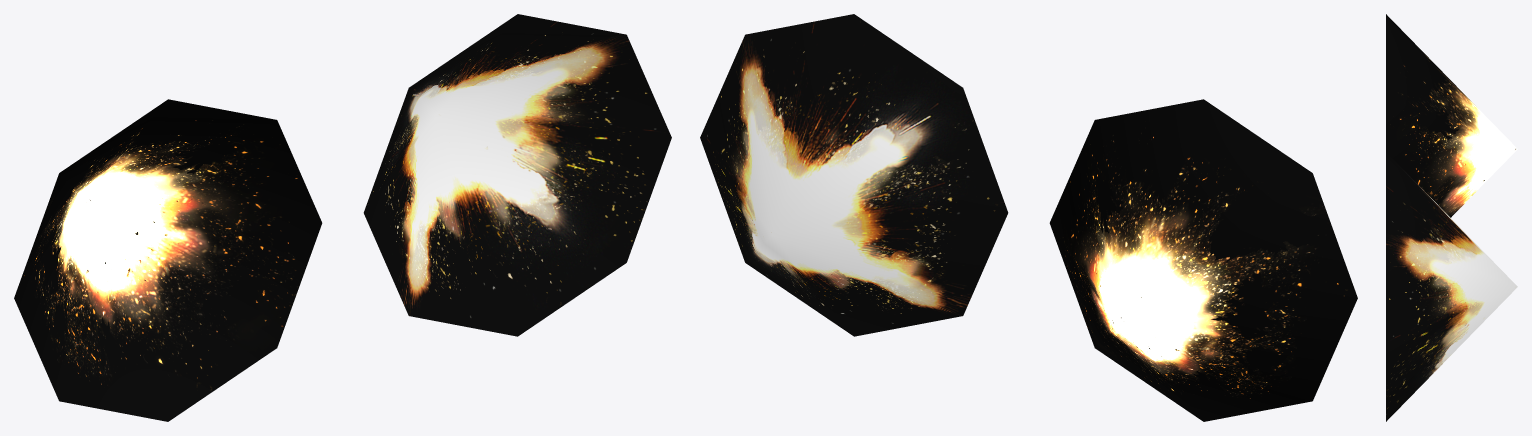
File: muzzle_meshes-named-nodes.glb
3 renders of one model, left to right at view 1: azimuth 30°, elevation 25°; view 2: azimuth 150°, elevation 25°; view 3: azimuth 270°, elevation 25°, orthographic. The views are drawn at different scales.
Parts seen in each view (by area): view 1: muzzlemesh_muzzle2_0, muzzlemesh_1_muzzle1_0; view 2: muzzlemesh_muzzle2_0, muzzlemesh_1_muzzle1_0; view 3: muzzlemesh_muzzle2_0, muzzlemesh_1_muzzle1_0.
Boxes of the visible parts, x1,y1,x2,y2 form: muzzlemesh_muzzle2_0: (363,14,671,336); muzzlemesh_1_muzzle1_0: (14,99,322,421); muzzlemesh_muzzle2_0: (700,14,1008,336); muzzlemesh_1_muzzle1_0: (1049,99,1357,421); muzzlemesh_muzzle2_0: (1386,152,1517,421); muzzlemesh_1_muzzle1_0: (1386,14,1517,217).
Size of the model in its own units: 427 by 200 by 91.76.
Materials: 2 (2 with a texture image).
